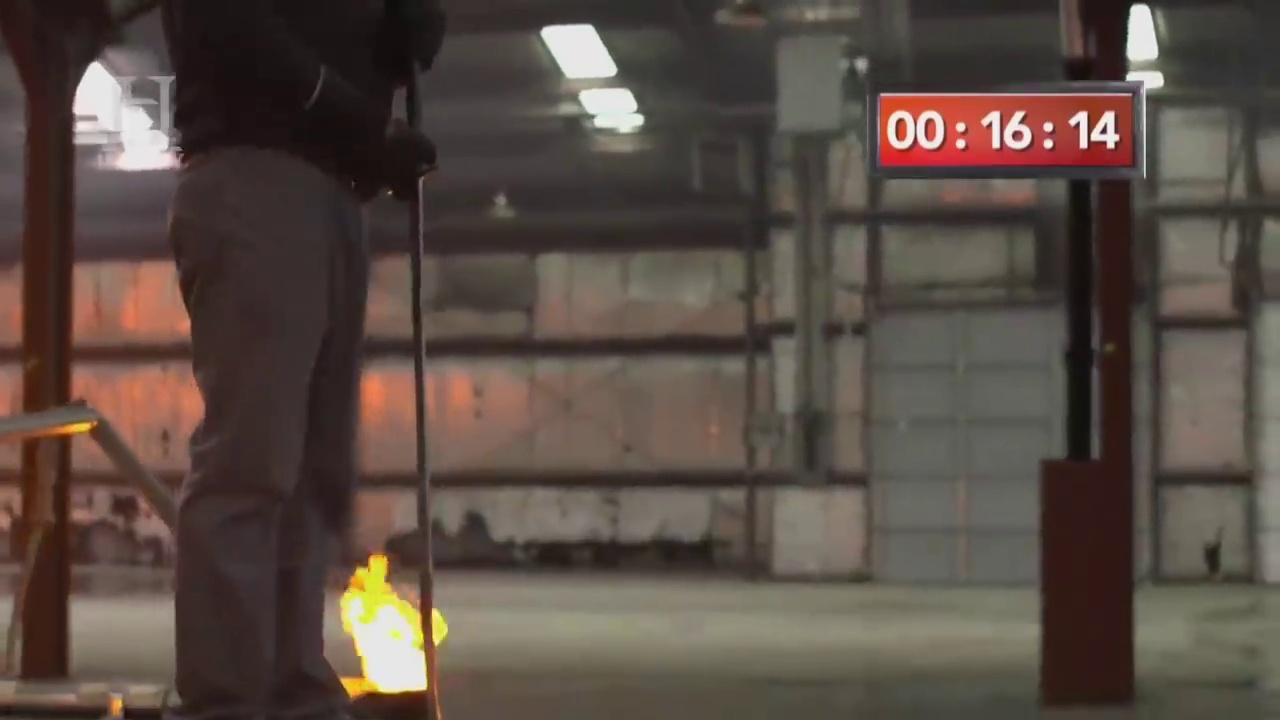Fire: (333, 555, 458, 696)
